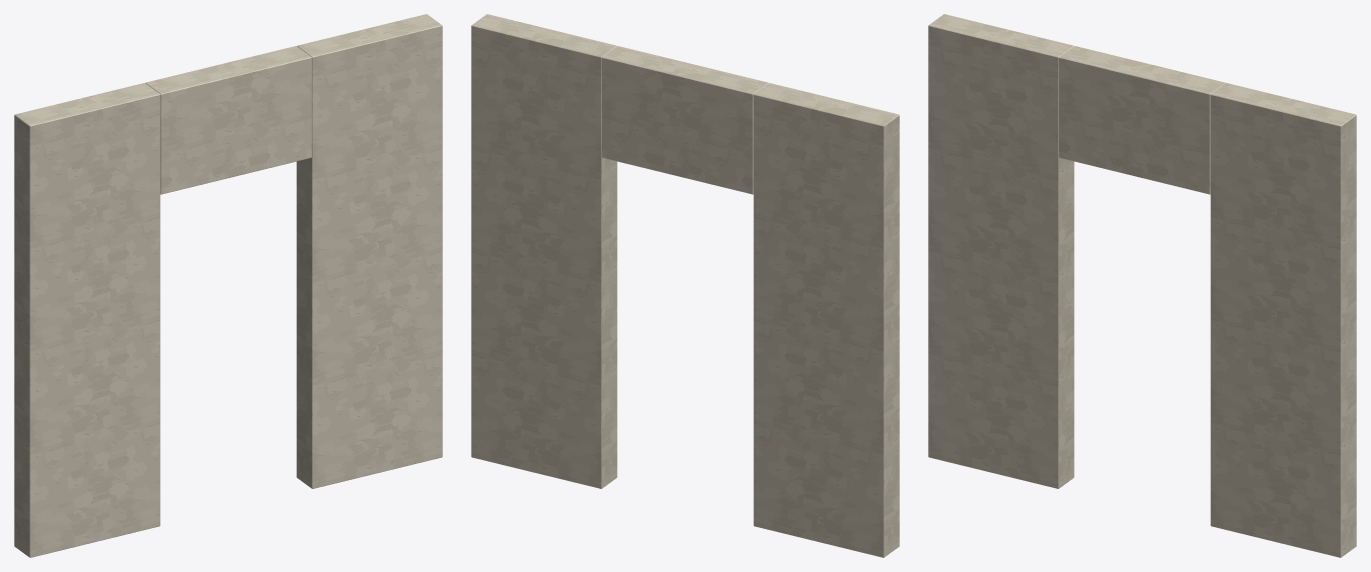
The model's file is MD_2_DoorwayWall.fbx.
3 renders of one model, left to right at view 1: azimuth 30°, elevation 25°; view 2: azimuth 150°, elevation 25°; view 3: azimuth 330°, elevation 25°, orthographic.
Parts seen in each view (by area): view 1: MD_2_DoorwayWall_door_jamb_wall, MD_2_DoorwayWall_door_jamb_wall.001, MD_2_DoorwayWall_door_lintel_wall; view 2: MD_2_DoorwayWall_door_jamb_wall, MD_2_DoorwayWall_door_jamb_wall.001, MD_2_DoorwayWall_door_lintel_wall; view 3: MD_2_DoorwayWall_door_jamb_wall.001, MD_2_DoorwayWall_door_jamb_wall, MD_2_DoorwayWall_door_lintel_wall.
Part boxes in pixels (bbox=[...]): MD_2_DoorwayWall_door_jamb_wall: bbox=[14, 83, 160, 557]; MD_2_DoorwayWall_door_jamb_wall.001: bbox=[296, 14, 442, 488]; MD_2_DoorwayWall_door_lintel_wall: bbox=[145, 46, 311, 194]; MD_2_DoorwayWall_door_jamb_wall: bbox=[753, 83, 899, 557]; MD_2_DoorwayWall_door_jamb_wall.001: bbox=[471, 14, 617, 488]; MD_2_DoorwayWall_door_lintel_wall: bbox=[602, 46, 768, 194]; MD_2_DoorwayWall_door_jamb_wall.001: bbox=[1210, 83, 1356, 557]; MD_2_DoorwayWall_door_jamb_wall: bbox=[928, 14, 1074, 488]; MD_2_DoorwayWall_door_lintel_wall: bbox=[1059, 46, 1225, 194].
Size of the model in its own units: 3 by 3 by 0.2.
Materials: 1 (1 with a texture image).
